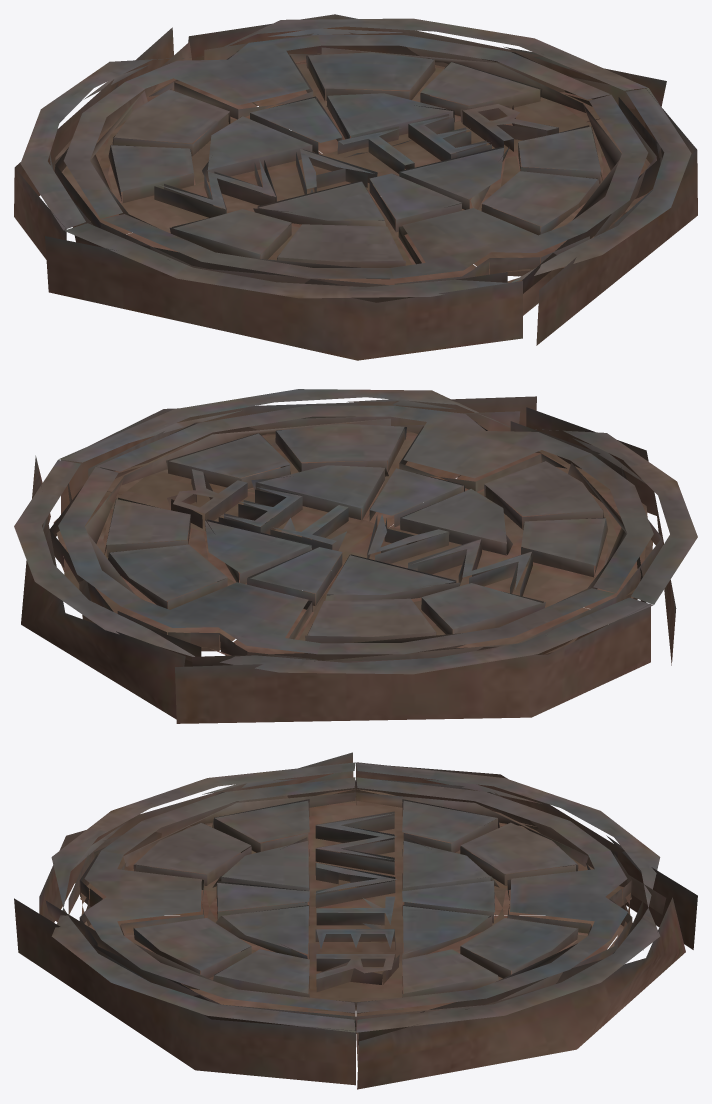
Rendered from manhole.glb.
3 renders of one model, top to bottom at view 1: azimuth 30°, elevation 25°; view 2: azimuth 150°, elevation 25°; view 3: azimuth 270°, elevation 25°, orthographic. The views are drawn at different scales.
Parts seen in each view (by area): view 1: water_manhole_cover_frame; view 2: water_manhole_cover_frame; view 3: water_manhole_cover_frame.
Boxes of the visible parts, x1=… form: water_manhole_cover_frame: x1=14, y1=14, x2=697, y2=360; water_manhole_cover_frame: x1=14, y1=389, x2=697, y2=723; water_manhole_cover_frame: x1=14, y1=752, x2=697, y2=1089.
Bounding box in the file's own units: 0.746 × 0.0678 × 0.746.
1 material, 1 textured.
